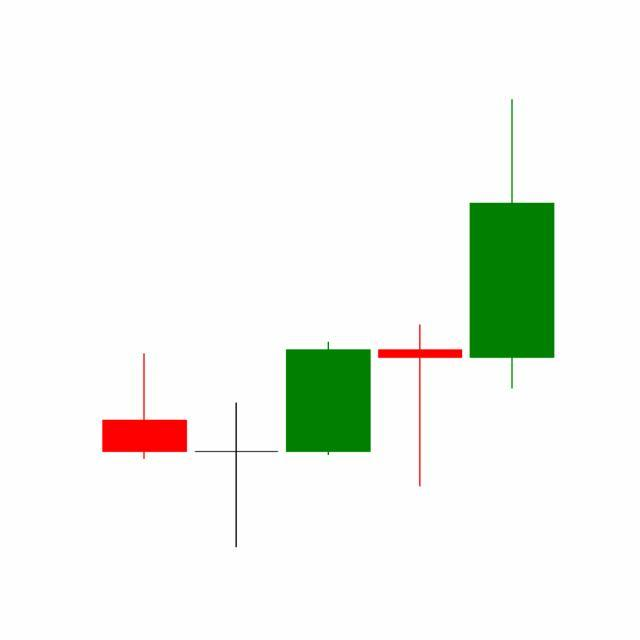Spinning Top: (374, 323, 468, 490)
